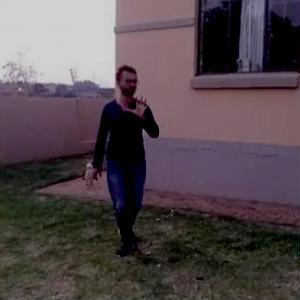follow_hand: (125, 91, 153, 121)
